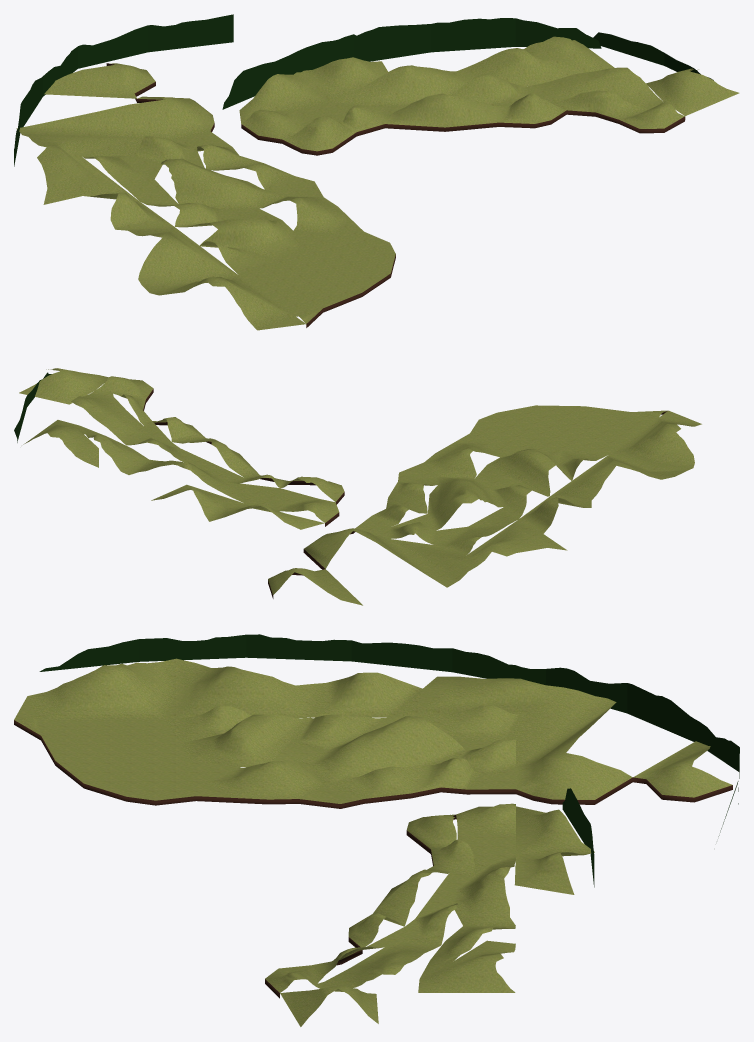
The model's file is Low_Poly_Terrain_4.fbx.
3 views of the same model, one above another, from view 1: azimuth 30°, elevation 25°; view 2: azimuth 150°, elevation 25°; view 3: azimuth 270°, elevation 25° (orthographic). The views are drawn at different scales.
Visible parts, largest first — view 1: Plane; view 2: Plane; view 3: Plane.
Boxes of the visible parts, left/top/right/bottom form: Plane: left=14, top=14, right=739, bottom=330; Plane: left=14, top=368, right=701, bottom=605; Plane: left=14, top=634, right=739, bottom=1026.
Bounding box in the file's own units: 81943 × 4145 × 67294.
Materials: 1 (1 with a texture image).
